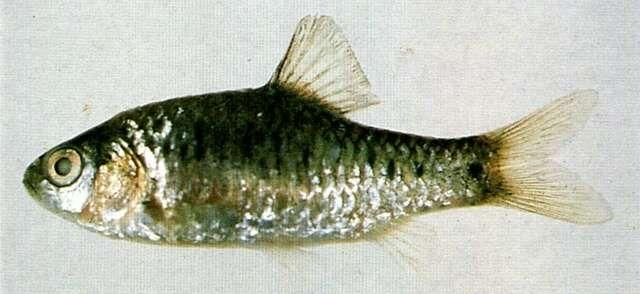Black Spotted Barb: (24, 11, 617, 270)
